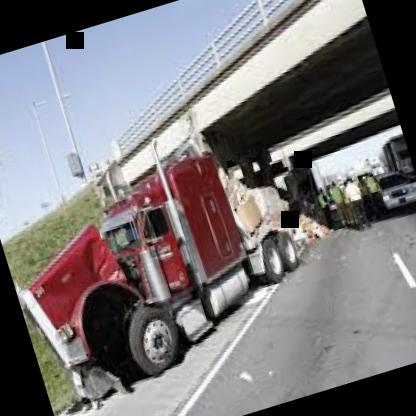accident: (0, 112, 343, 416)
